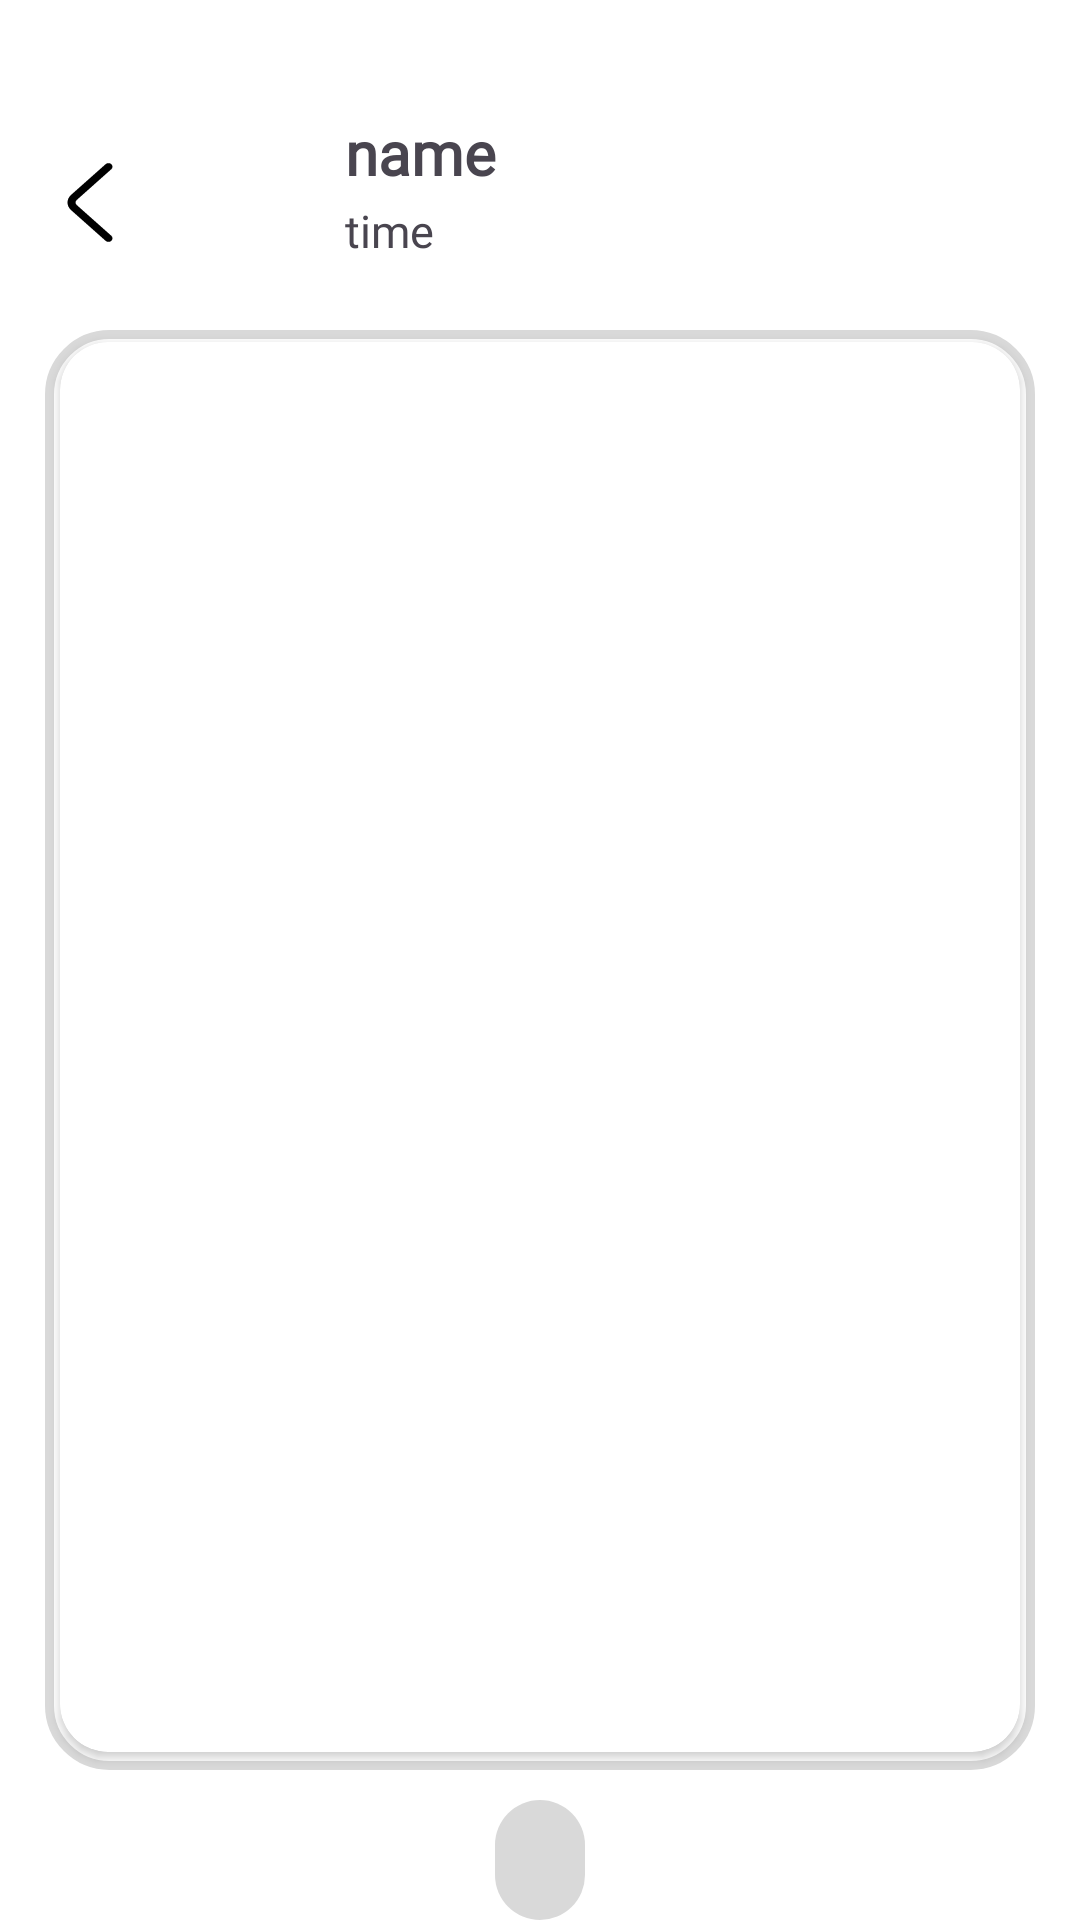

Icon click points for this 1080*1920 phone screenshot, format [x,y]:
back: [90,202]
